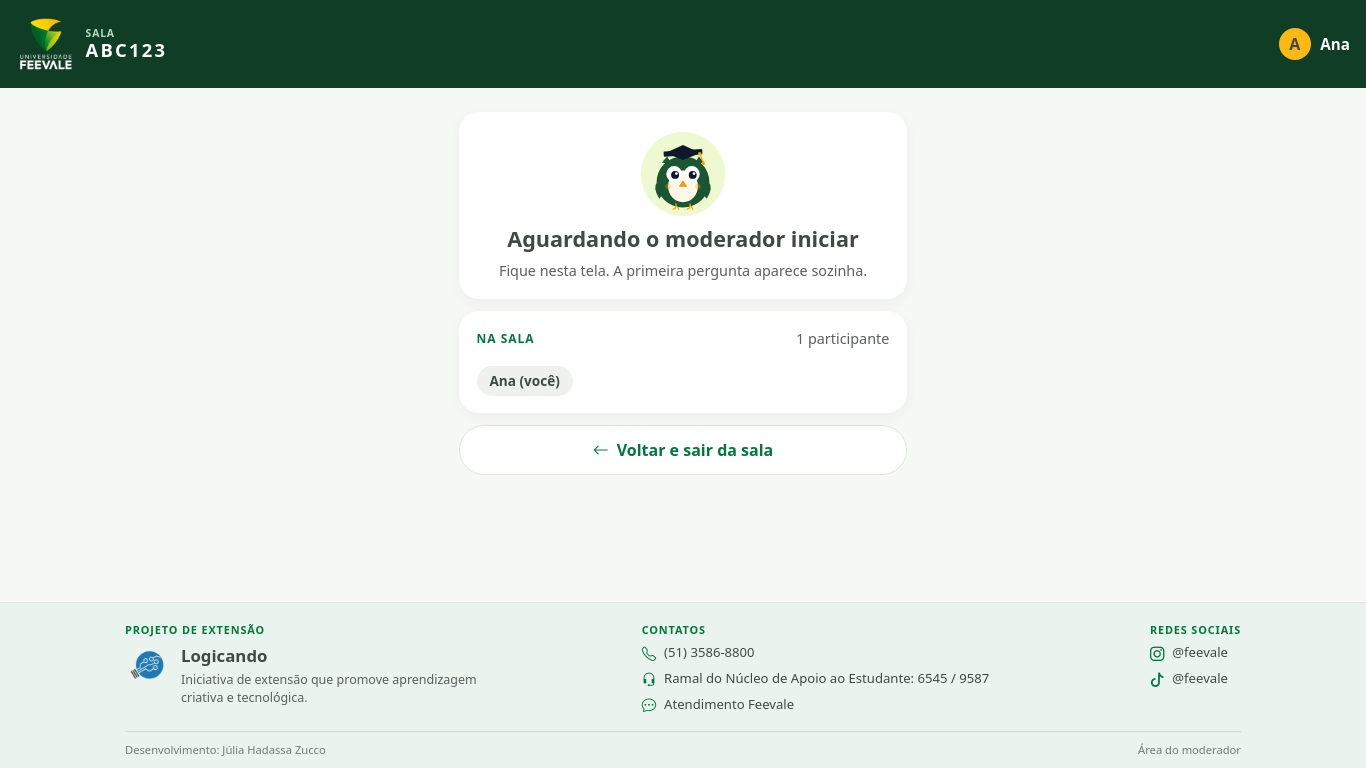
Test: PaginaSalaParticipante › mostra o motivo e continua na sala quando não consegue sair
Click the button "Voltar e sair da sala" at (683, 450), box x1=459 y1=426 x2=907 y2=476
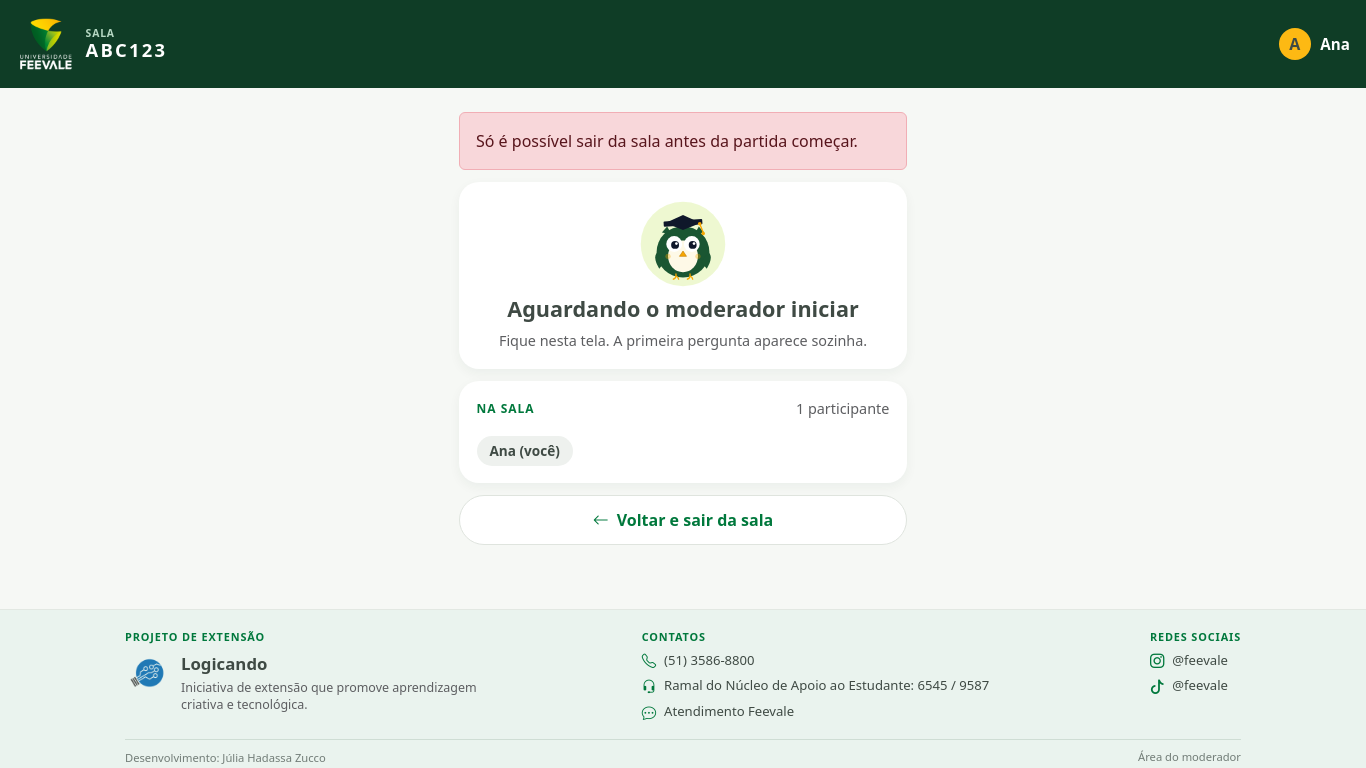
Expected: the message reads "Só é possível sair da sala antes da partida começar.", x1=476 y1=130 x2=858 y2=152
